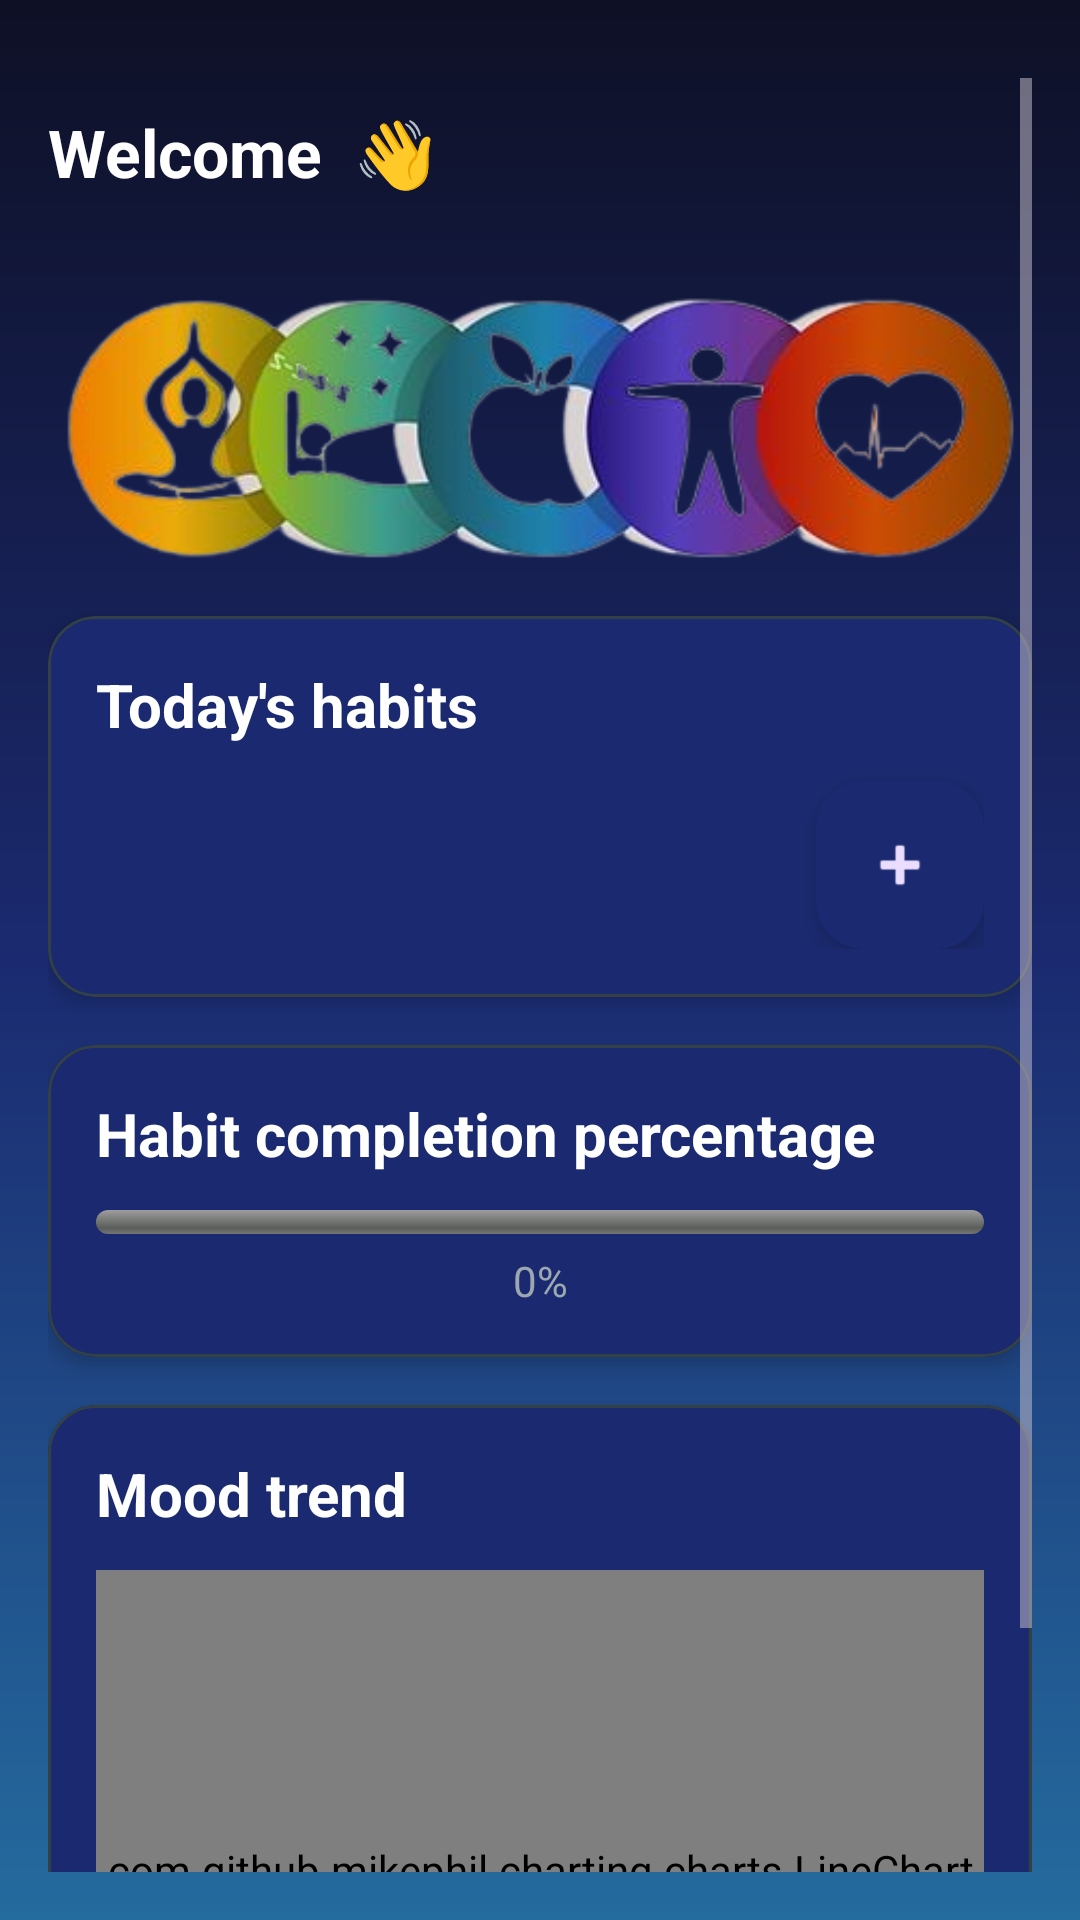

Locate icon controls on the screen. Image size 1080w x 1920h, boxes as (left=x1, top=y1, right=x2, bottom=y2).
Add Habit: (left=880, top=845, right=920, bottom=885)
